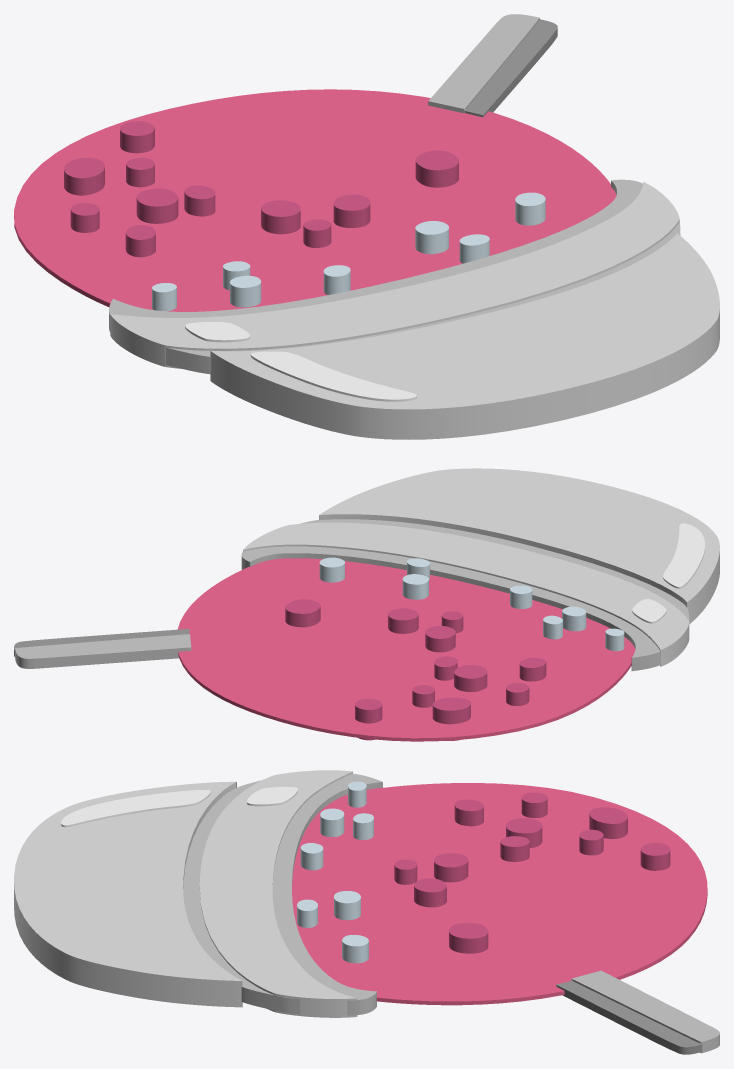
The model's file is emoji_u1f367.glb.
3 renders of one model, top to bottom at view 1: azimuth 30°, elevation 25°; view 2: azimuth 150°, elevation 25°; view 3: azimuth 270°, elevation 25°, orthographic. The views are drawn at different scales.
Parts seen in each view (by area): view 1: emoji_u1f367; view 2: emoji_u1f367; view 3: emoji_u1f367.
Part boxes in pixels (<box>): emoji_u1f367: <box>14,14,719,439</box>; emoji_u1f367: <box>14,468,719,741</box>; emoji_u1f367: <box>14,770,719,1054</box>.
Bounding box in the file's own units: 0.0309 × 0.002 × 0.034.
